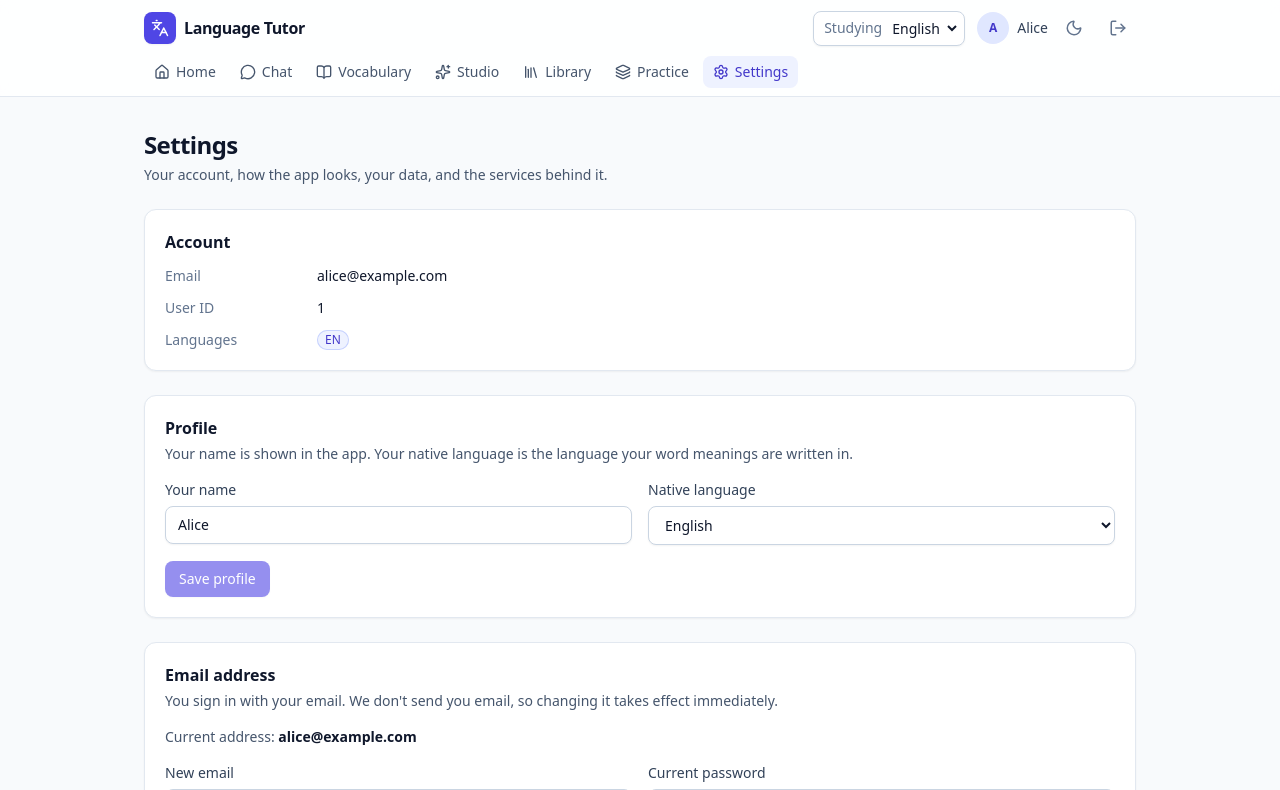
Test: settings: profile and email › saves a new name and native language
The width and height of the screenshot is (1280, 790).
Expected: the button "Save profile" is disabled, [165,561,270,597]
Replace the text in the field labelled "Your name" with "Alice Smith" at (398, 525), box [165,506,632,544]
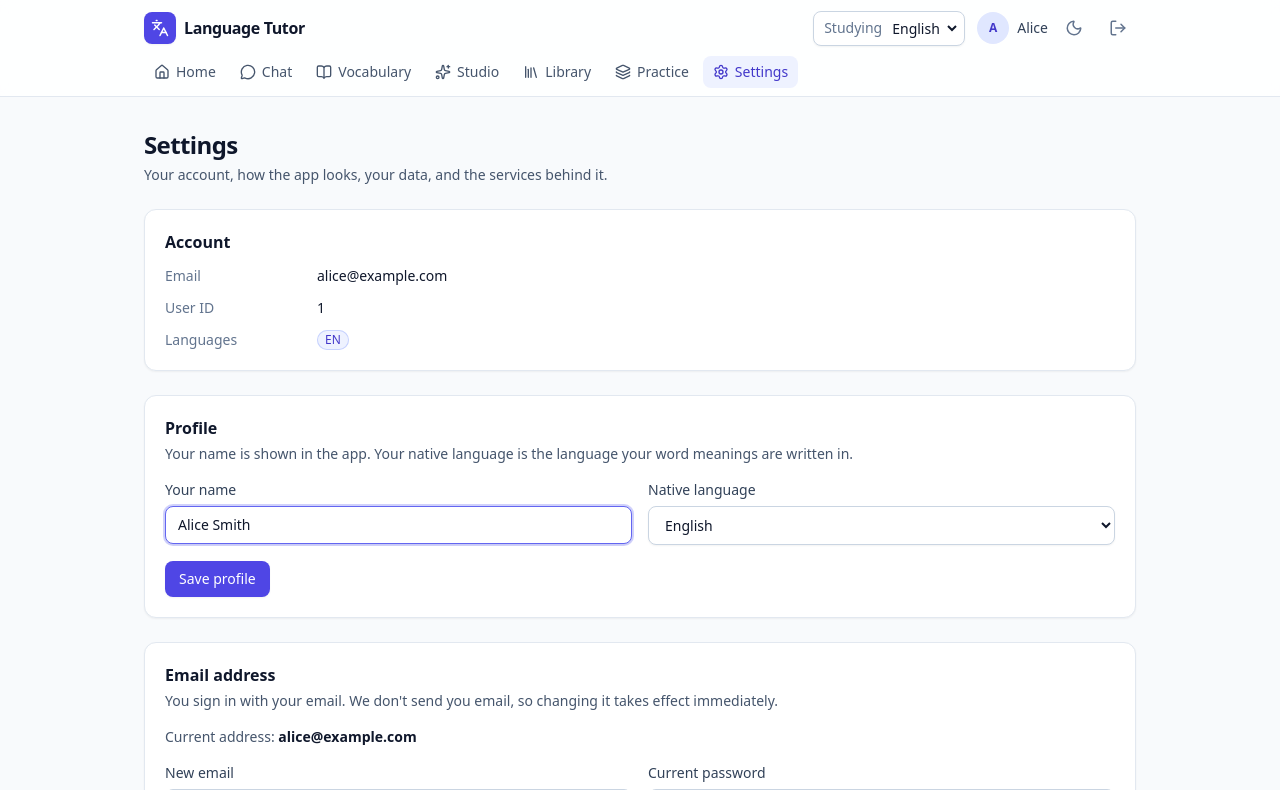
Select "Español" in the dropdown labelled "Native language" at (882, 526), box [648,506,1115,545]
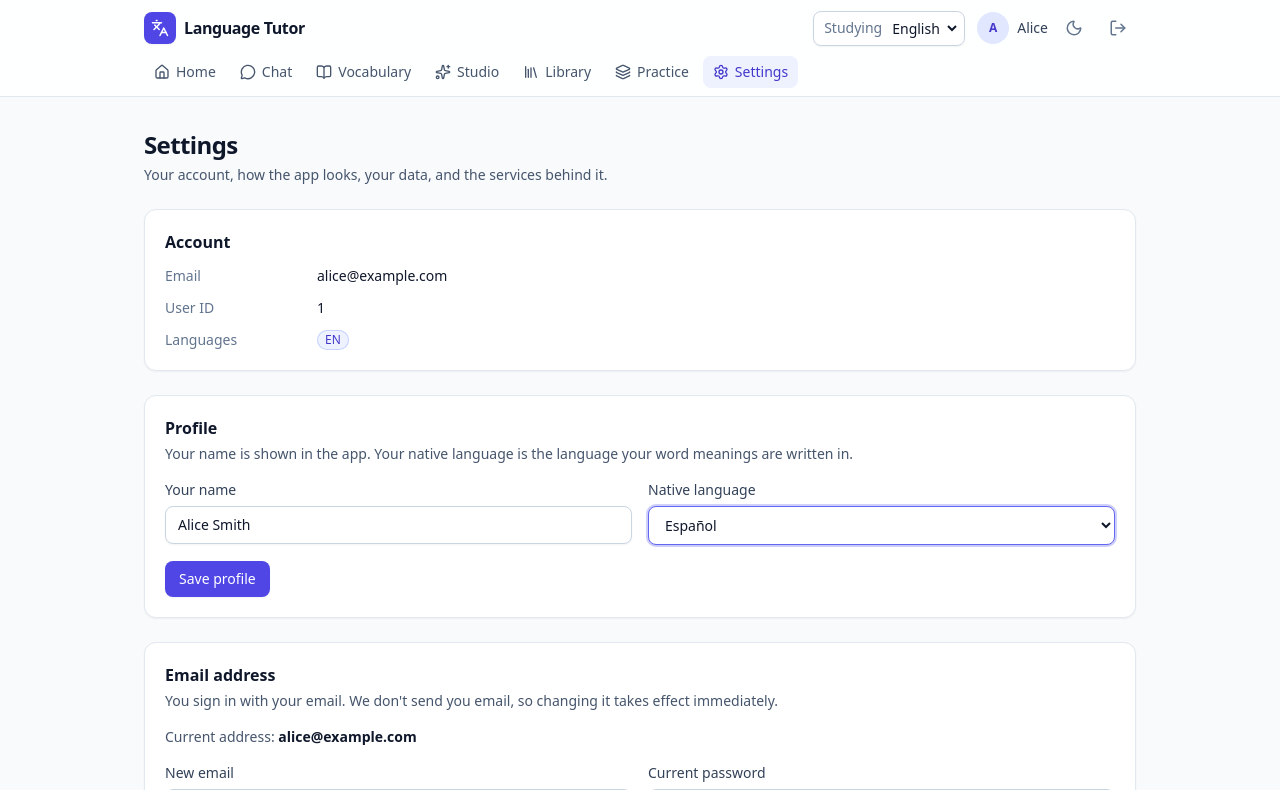
Click the button "Save profile".
click(217, 579)  # box [165,561,270,597]
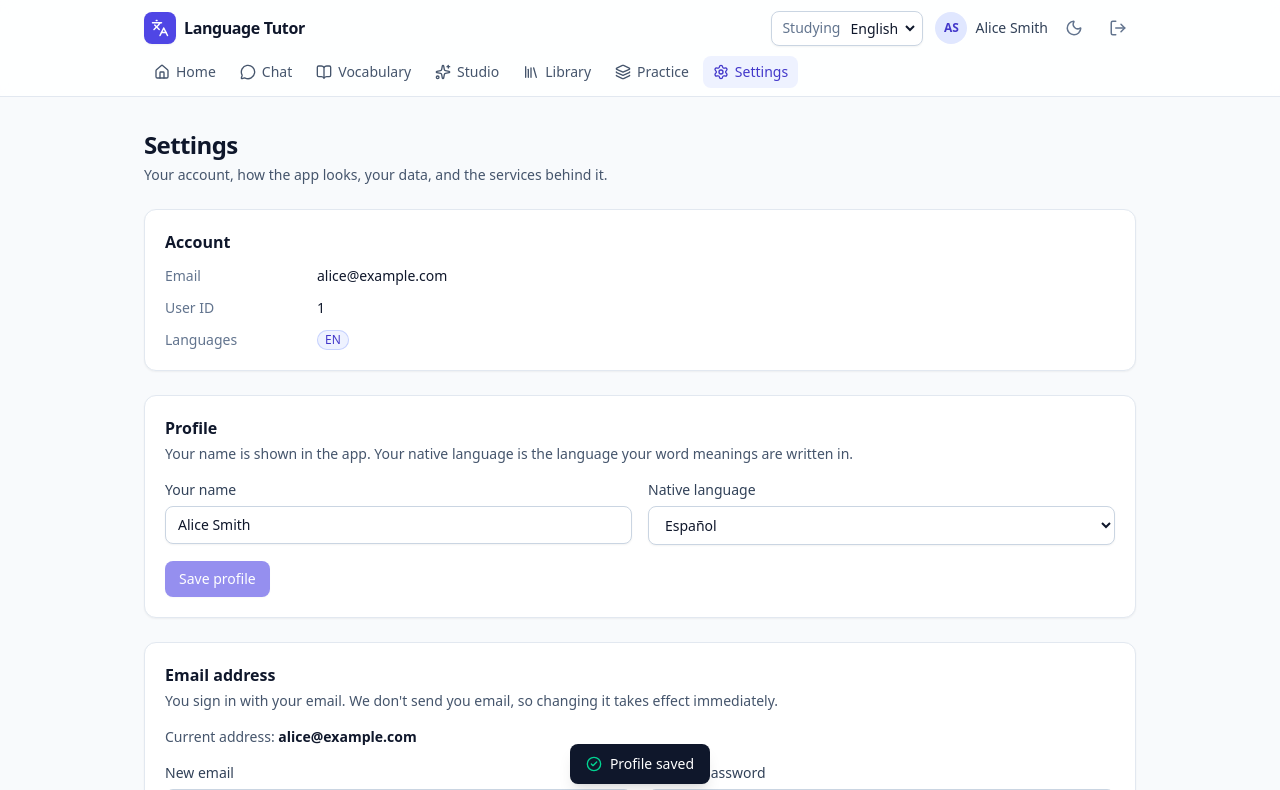
Now the text "Profile saved" is shown, box [570,744,710,784]
Now the text "Alice Smith" is shown, box [976,18,1048,38]
